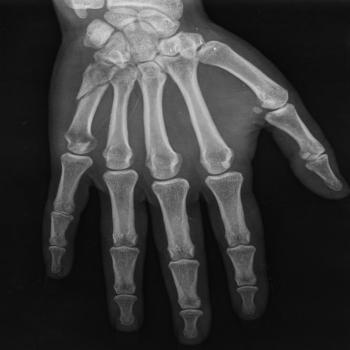Fracture: (71, 81, 113, 103)
